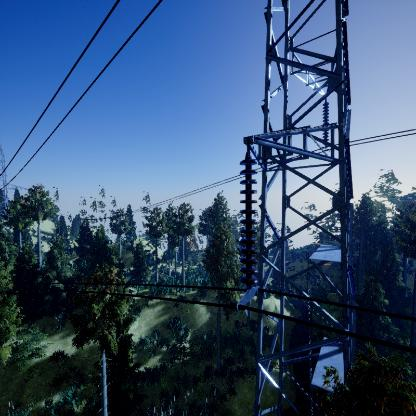insulator: (235, 157, 261, 291), (322, 101, 331, 150)
